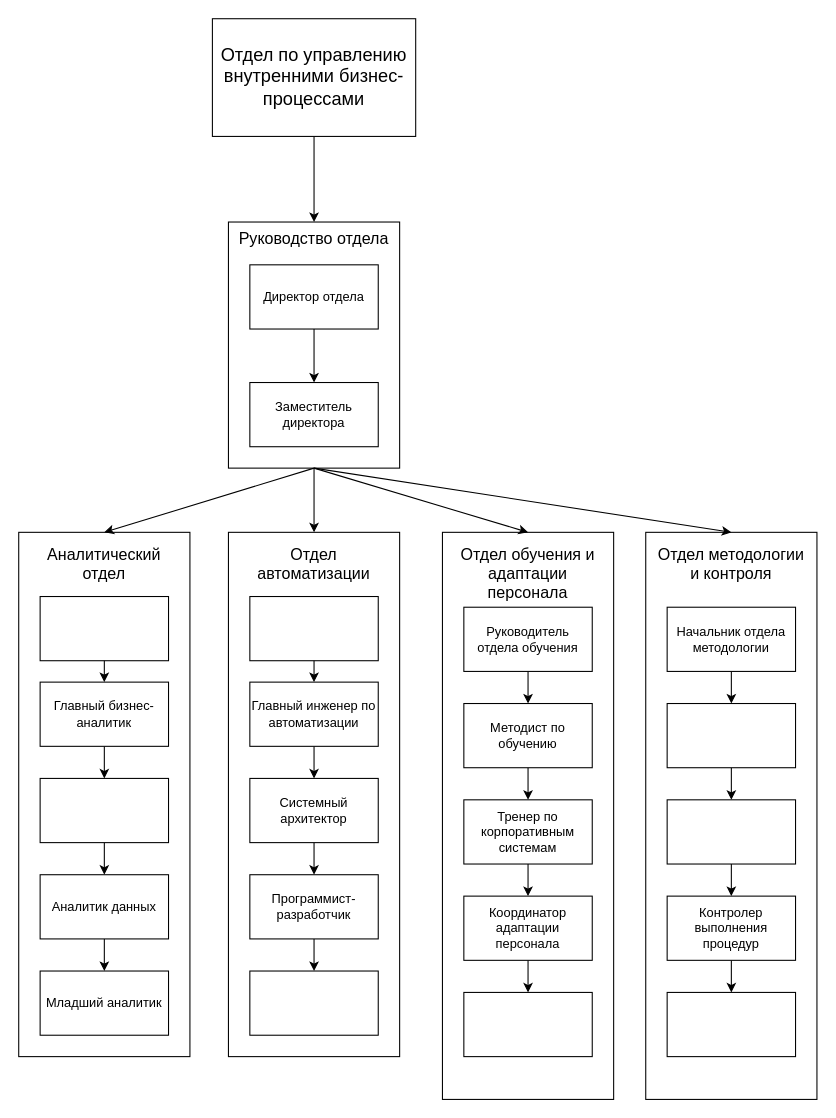
Image size: 836x1118. Some labels were removed from this diagram. The centre of each missing label's shape, as x and y in pixels:
Аналитик по бизнес-процессам: pixel 104 810
Аналитик по управлению качеством: pixel 731 1024
Начальник аналитического отдела: pixel 104 628
Руководитель отдела автоматизации: pixel 313 628
Специалист по аудиту бизнес-процессов: pixel 731 831
Специалист по тестированию знаний: pixel 527 1024
Специалист по технической поддержке: pixel 313 1002
Эксперт по внутренним регламентам: pixel 731 735
